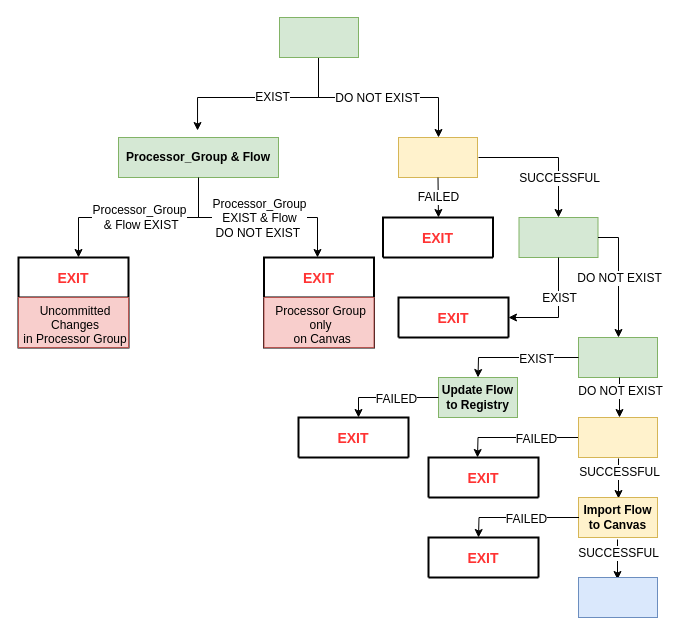
The diagram is 679 pixels wide and 635 high, and some of its shapes have lost their labels. The box of each missing label's shape, as (x1, y1, x2, y2) in pixels:
Bucket: (278, 16, 358, 58)
Check Flow: (578, 336, 658, 378)
Check Processor Group: (518, 216, 598, 258)
Completed: (578, 576, 658, 618)
Create Bucket: (398, 136, 478, 178)
Import Flow to Registry: (578, 416, 658, 458)
